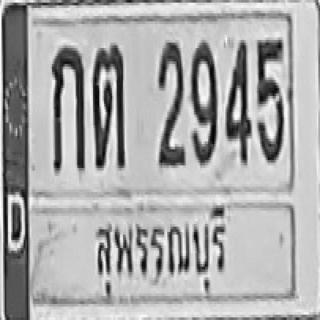A01: (50, 45, 85, 171)
A21: (92, 43, 125, 168)
N02: (158, 41, 184, 167)
N04: (225, 39, 251, 164)
N05: (255, 37, 284, 163)
N09: (190, 40, 217, 165)
P66: (84, 201, 231, 298)
